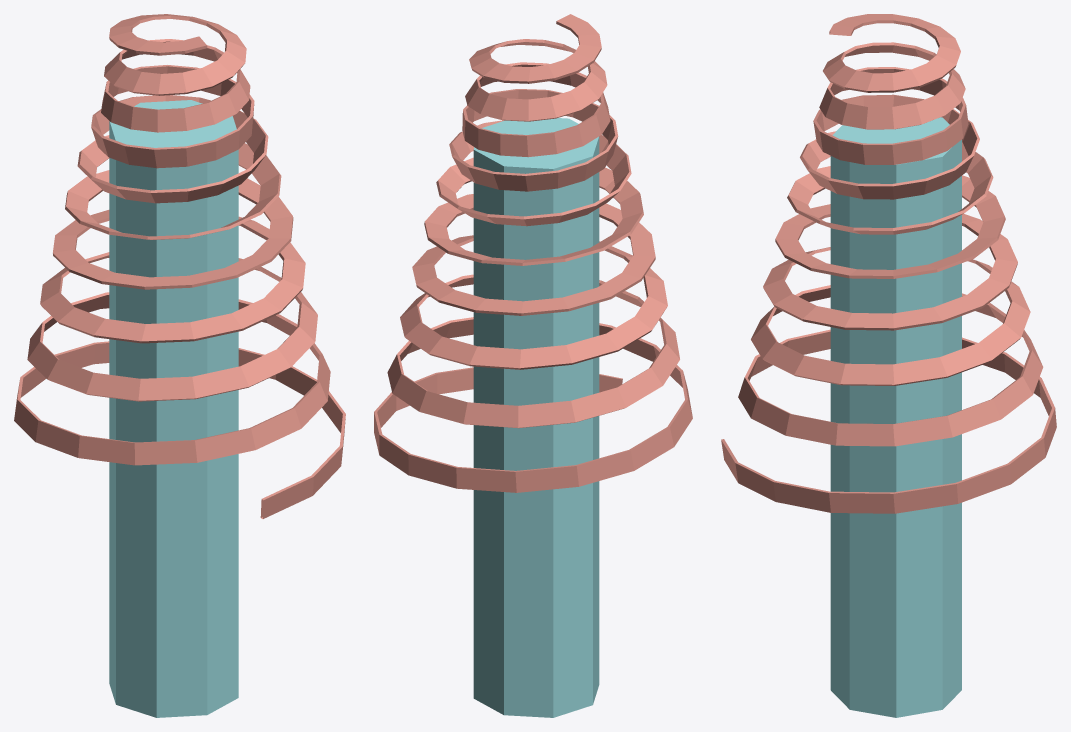
Rendered from baum2.fbx.
3 renders of one model, left to right at view 1: azimuth 30°, elevation 25°; view 2: azimuth 150°, elevation 25°; view 3: azimuth 270°, elevation 25°, orthographic. The views are drawn at different scales.
Parts seen in each view (by area): view 1: baumstamm, Plane; view 2: baumstamm, Plane; view 3: baumstamm, Plane.
Boxes of the visible parts, x1=… form: baumstamm: x1=109, y1=100, x2=238, y2=717; Plane: x1=14, y1=14, x2=345, y2=518; baumstamm: x1=473, y1=118, x2=599, y2=717; Plane: x1=374, y1=14, x2=692, y2=492; baumstamm: x1=830, y1=117, x2=961, y2=717; Plane: x1=721, y1=14, x2=1056, y2=513.
Bounding box in the file's own units: 321 × 714 × 330.
